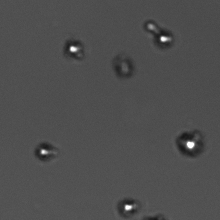Dead Cell: (113, 56, 137, 80)
Living Cell: (175, 129, 205, 158), (34, 141, 58, 160), (118, 196, 141, 215), (63, 37, 83, 58), (157, 30, 175, 49)
